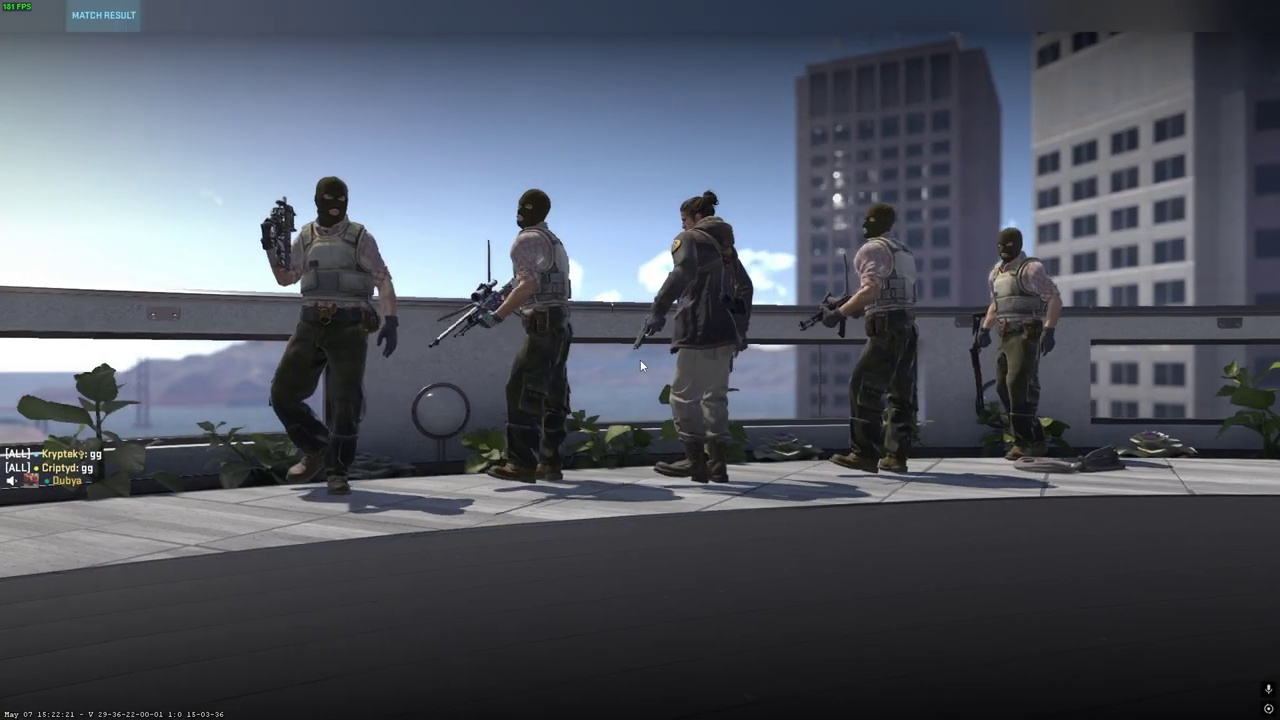Terrorist: (261, 176, 395, 496), (644, 190, 754, 483), (478, 188, 573, 483), (828, 202, 920, 474), (970, 227, 1061, 461)
